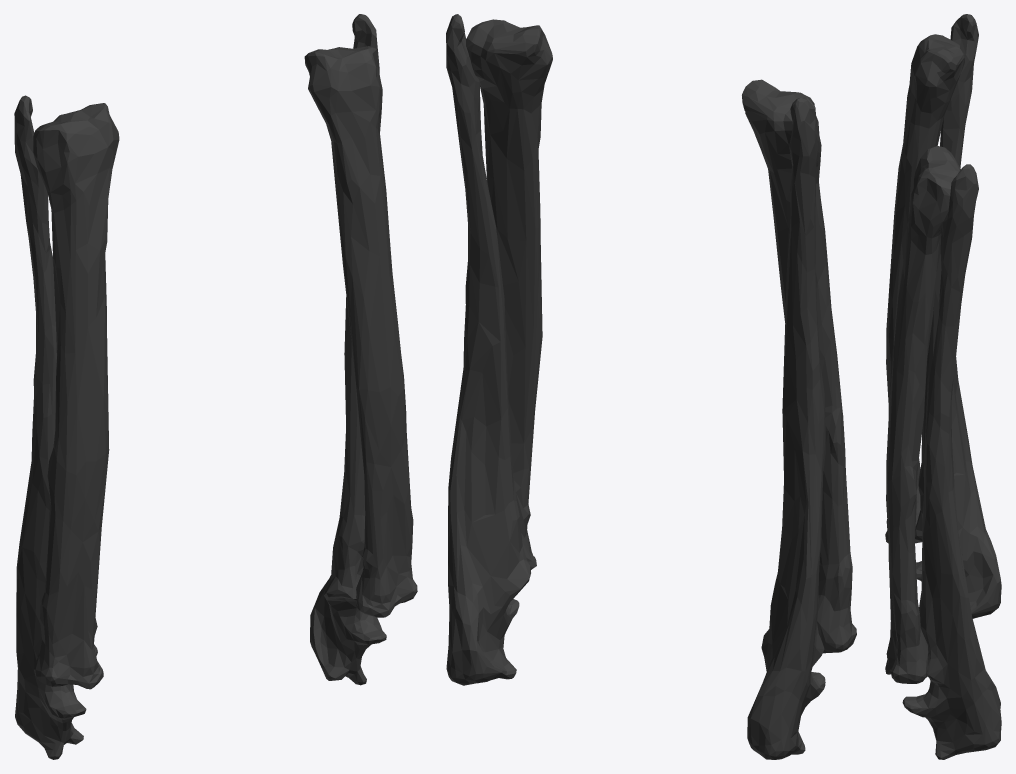
File: b_radius_ulna.glb
3 views of the same model, side by side, from view 1: azimuth 30°, elevation 25°; view 2: azimuth 150°, elevation 25°; view 3: azimuth 270°, elevation 25° (orthographic). The views are drawn at different scales.
Parts seen in each view (by area): view 1: b_radius_ulna; view 2: b_radius_ulna; view 3: b_radius_ulna.
Boxes of the visible parts, left/top/right/bottom form: b_radius_ulna: left=14, top=14, right=417, bottom=759; b_radius_ulna: left=446, top=14, right=856, bottom=759; b_radius_ulna: left=885, top=14, right=1001, bottom=759.
Size of the model in its own units: 0.0415 by 0.0699 by 0.0122.
Materials: 1 (1 with a texture image).
